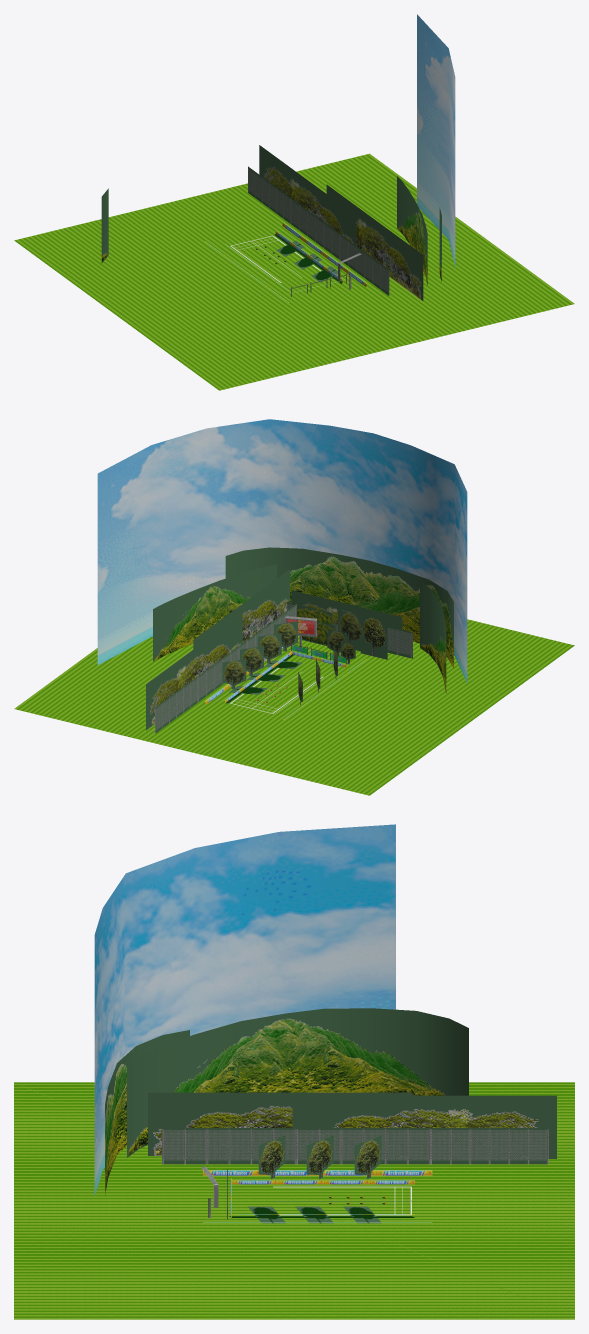
Rendered from EnvironmentA.glb.
3 renders of one model, top to bottom at view 1: azimuth 30°, elevation 25°; view 2: azimuth 150°, elevation 25°; view 3: azimuth 270°, elevation 25°, orthographic. The views are drawn at different scales.
Visible parts, largest first — view 1: EnviA_Original; view 2: EnviA_Original; view 3: EnviA_Original.
Boxes of the visible parts, x1,y1,x2,y2 form: EnviA_Original: (14, 14, 574, 390); EnviA_Original: (14, 419, 574, 795); EnviA_Original: (14, 824, 574, 1319).
Bounding box in the file's own units: 143 × 75.77 × 143.
Materials: 2 (2 with a texture image).
